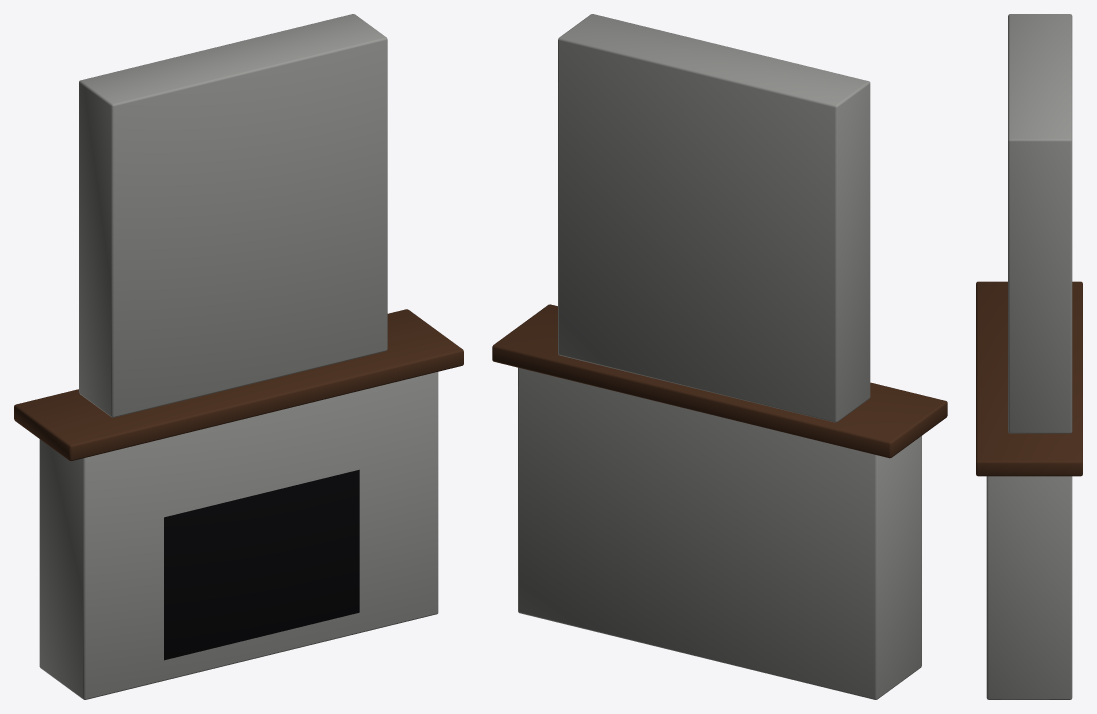
File: Fireplace.glb
3 renders of one model, left to right at view 1: azimuth 30°, elevation 25°; view 2: azimuth 150°, elevation 25°; view 3: azimuth 270°, elevation 25°, orthographic. The views are drawn at different scales.
Visible parts, largest first — view 1: Fireplace; view 2: Fireplace; view 3: Fireplace.
Boxes of the visible parts, x1,y1,x2,y2 form: Fireplace: [14, 14, 463, 699]; Fireplace: [492, 14, 947, 699]; Fireplace: [976, 14, 1082, 699].
Bounding box in the file's own units: 2 × 2.8 × 0.5.
